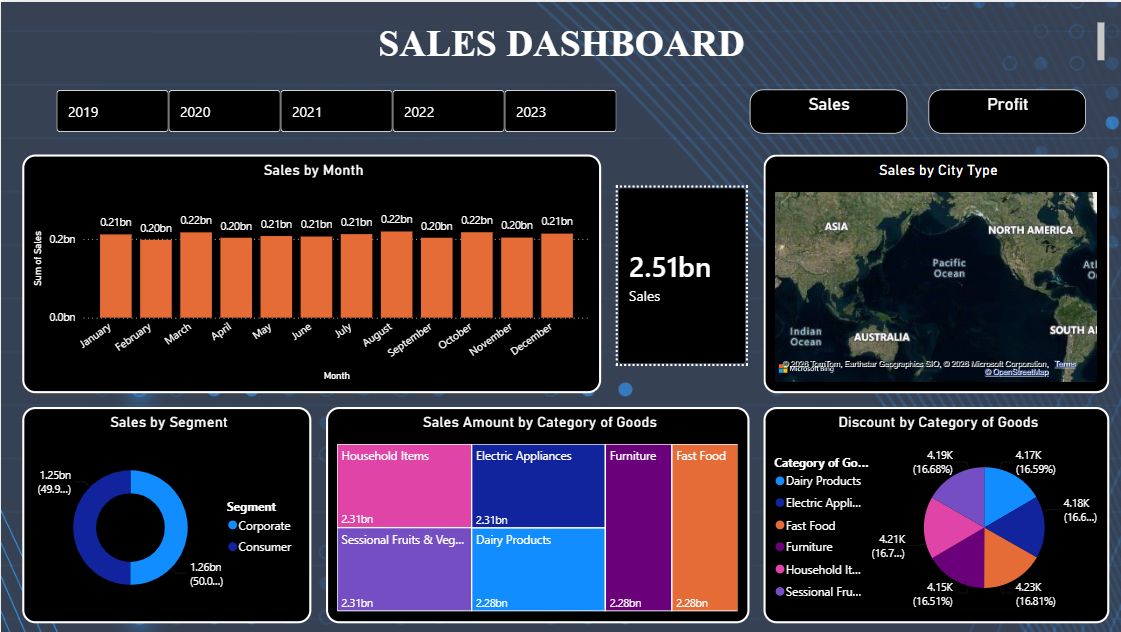

Layout of this report page (visuals, bound fields, positions):
{"tool":"powerbi","page":{"name":"Page 3","canvas":[1280,720],"ordinal":2},"visuals":[{"type":"pieChart","title":" Discount by Category of Goods","fields":{"Series":["store_sales_data (2).Category of Goods"],"Y":["Sum(store_sales_data (2).Discount)"]},"box":[871.4,462.4,395.2,247],"z":0},{"type":"donutChart","title":"Sales by Segment","fields":{"Category":["store_sales_data (2).Segment"],"Y":["Sum(store_sales_data (2).Sales)"]},"box":[24.7,462.4,330.7,247],"z":1000},{"type":"treemap","title":" Sales Amount by Category of Goods","fields":{"Group":["store_sales_data (2).Category of Goods"],"Values":["Sum(store_sales_data (2).Sales Amount)"]},"box":[371.9,462.4,484.4,247],"z":2000},{"type":"columnChart","title":" Sales by Month","fields":{"Y":["Sum(store_sales_data (2).Sales)"],"Category":["store_sales_data (2).Sales Date.Variation.Date Hierarchy.Month"]},"box":[24.7,174.3,661.4,273.1],"z":3000},{"type":"filledMap","title":"Sales by City Type","fields":{"Category":["store_sales_data (2).City Type"]},"box":[871.4,174.3,395.2,273.1],"z":4000},{"type":"cardVisual","fields":{"Data":["Sum(store_sales_data (2).Sales)"]},"box":[686.1,193.5,185.2,240.1],"z":5000},{"type":"textbox","box":[24.7,19.2,1241.9,56.3],"z":6000},{"type":"advancedSlicerVisual","fields":{"Values":["store_sales_data (2).Year"]},"box":[59,75.5,650.4,98.8],"z":7000},{"type":"advancedSlicerVisual","title":" Sales","fields":{"Label":["Sum(cleaned_stored_sales_data.Sales)"]},"box":[856.3,100.2,180,50],"z":8000},{"type":"advancedSlicerVisual","title":"Profit","fields":{"Label":["Sum(cleaned_stored_sales_data.Profit)"]},"box":[1059.4,100.2,180,50],"z":9000}]}

Visuals, with their boxes in screenshot pixels (x1, y1, x2, y2), scaled from the page's 1280x720 canvas onto the 1121x632 screenshot:
" Discount by Category of Goods" pieChart: bbox=(763, 406, 1109, 623)
"Sales by Segment" donutChart: bbox=(22, 406, 311, 623)
" Sales Amount by Category of Goods" treemap: bbox=(326, 406, 750, 623)
" Sales by Month" columnChart: bbox=(22, 153, 601, 393)
"Sales by City Type" filledMap: bbox=(763, 153, 1109, 393)
cardVisual - Sum(store_sales_data (2).Sales): bbox=(601, 170, 763, 381)
textbox: bbox=(22, 17, 1109, 66)
advancedSlicerVisual - store_sales_data (2).Year: bbox=(52, 66, 621, 153)
" Sales" advancedSlicerVisual: bbox=(750, 88, 908, 132)
"Profit" advancedSlicerVisual: bbox=(928, 88, 1085, 132)
